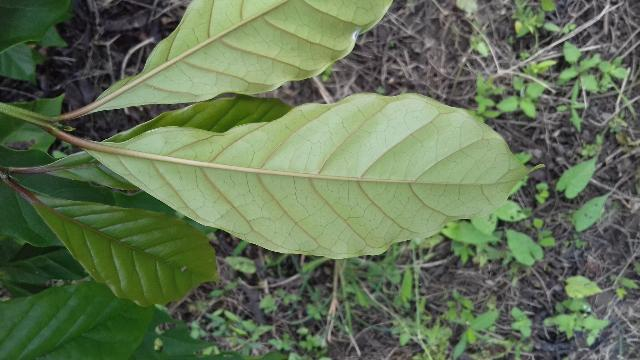healthy: (82, 91, 542, 257)
